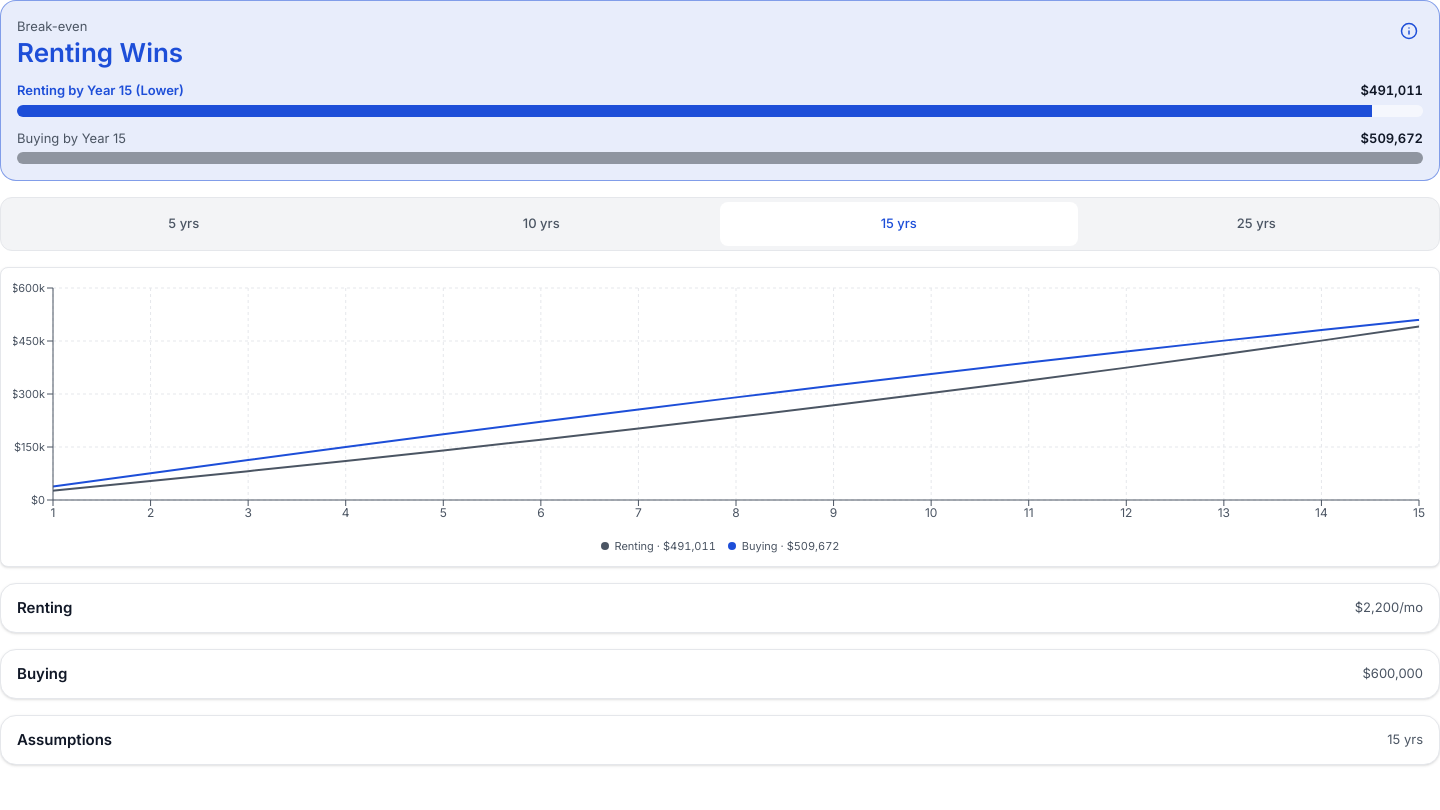
Test: changes the horizon with a preset
Click the button "25 yrs" at (1256, 224), box [1078,202,1435,246]
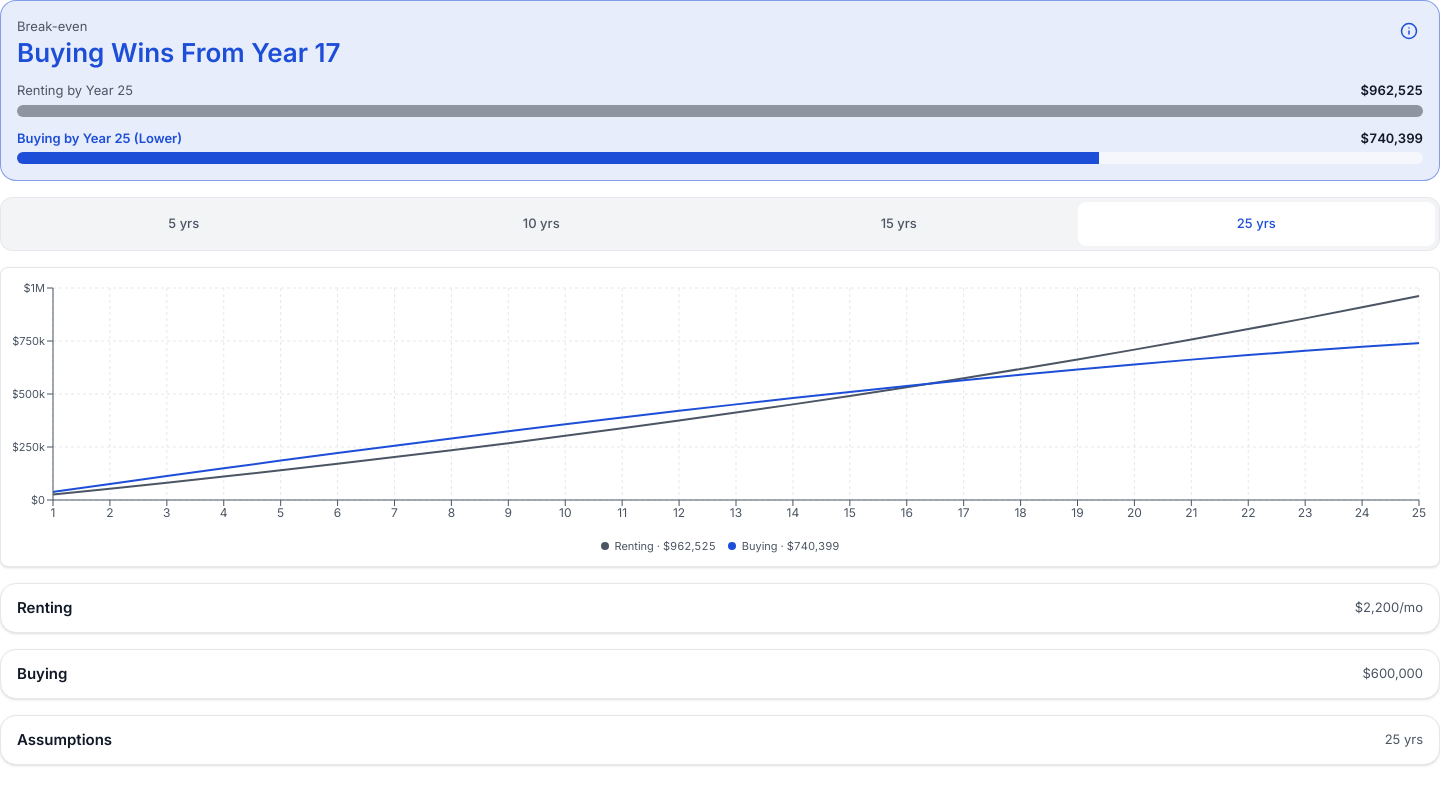
Check: the text "Renting by Year 25" is shown, box [17,81,133,100]
